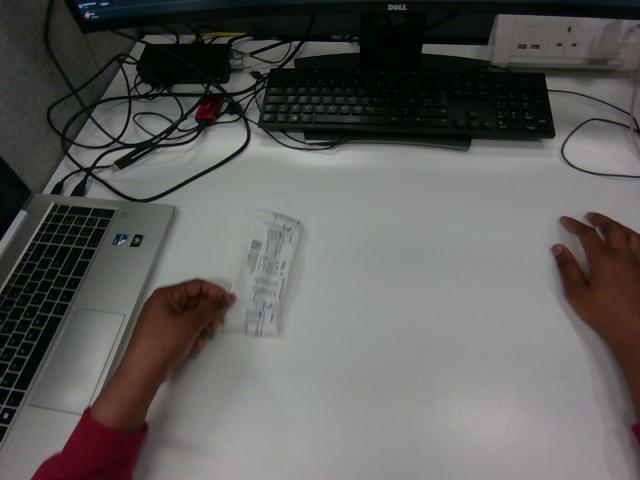syringe: (223, 210, 301, 335)
